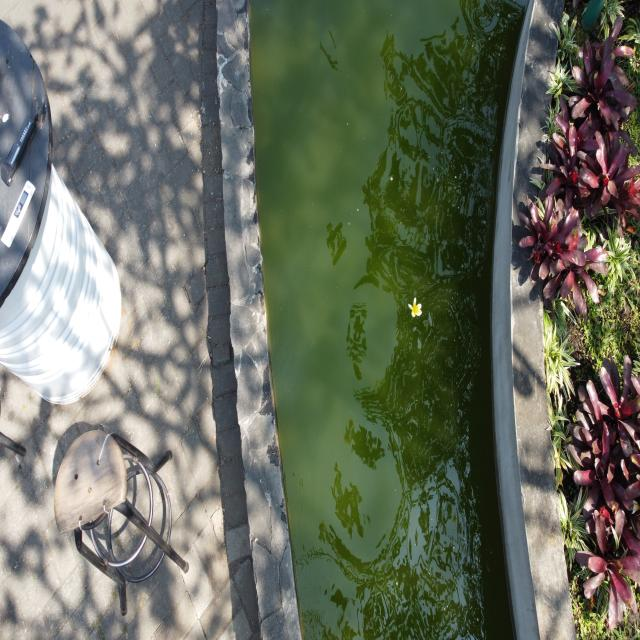Ponds: (217, 2, 578, 639)
